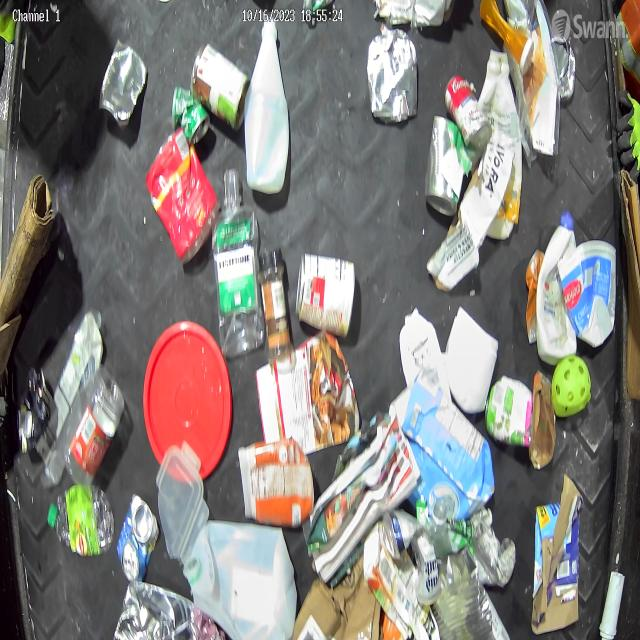can: (430, 544, 492, 640), (383, 507, 441, 606), (191, 44, 251, 133), (294, 253, 358, 336), (368, 28, 418, 124), (98, 40, 149, 127), (424, 115, 466, 220), (116, 492, 159, 584), (445, 75, 493, 154), (484, 377, 533, 448), (17, 366, 52, 456), (171, 85, 211, 145), (552, 36, 578, 103)
milk_jug: (182, 519, 299, 640), (244, 20, 290, 197), (536, 210, 579, 362)
non_white_jug: (388, 378, 496, 521)
plastic_bottle: (214, 167, 260, 360), (63, 364, 124, 487), (48, 482, 113, 556)
